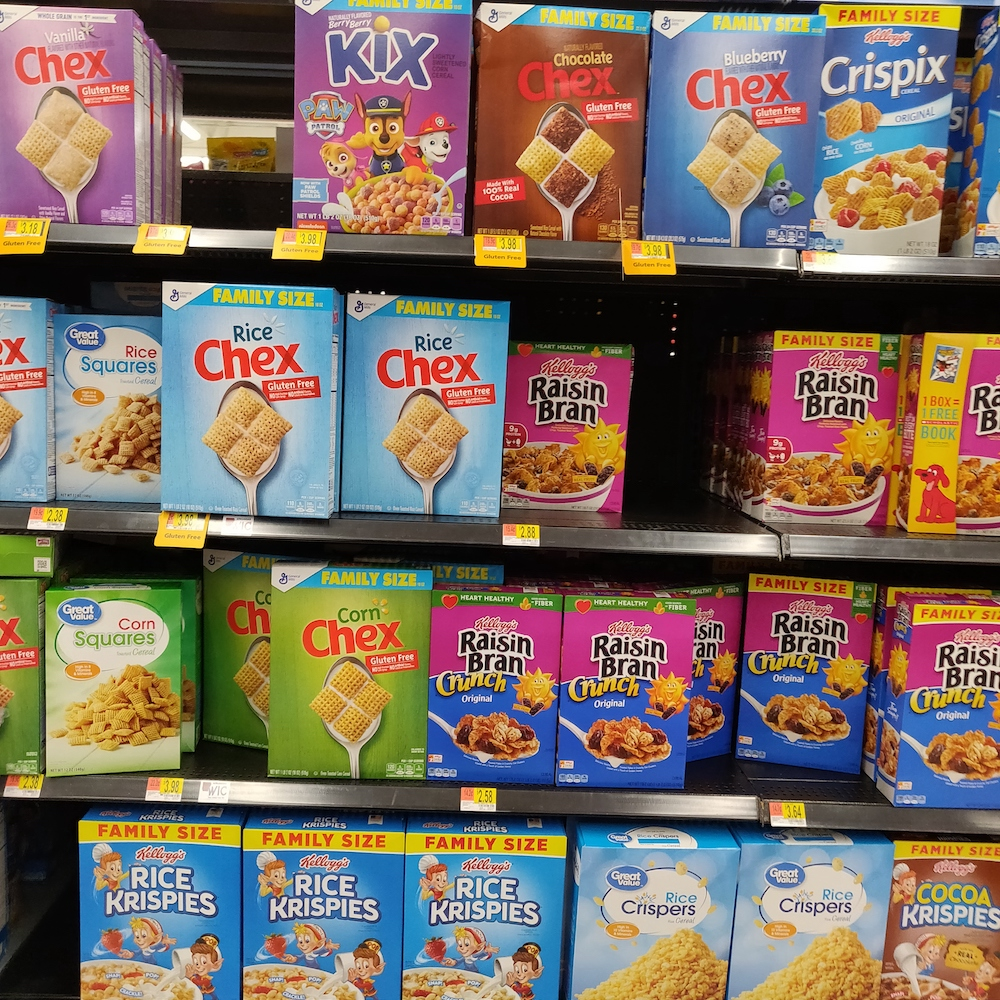Kix Berry -568919964: (289, 17, 476, 241)
